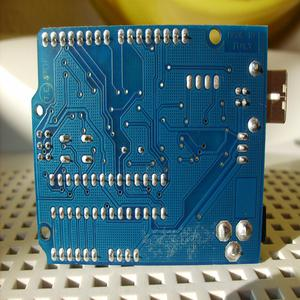duino: (33, 18, 268, 260)
